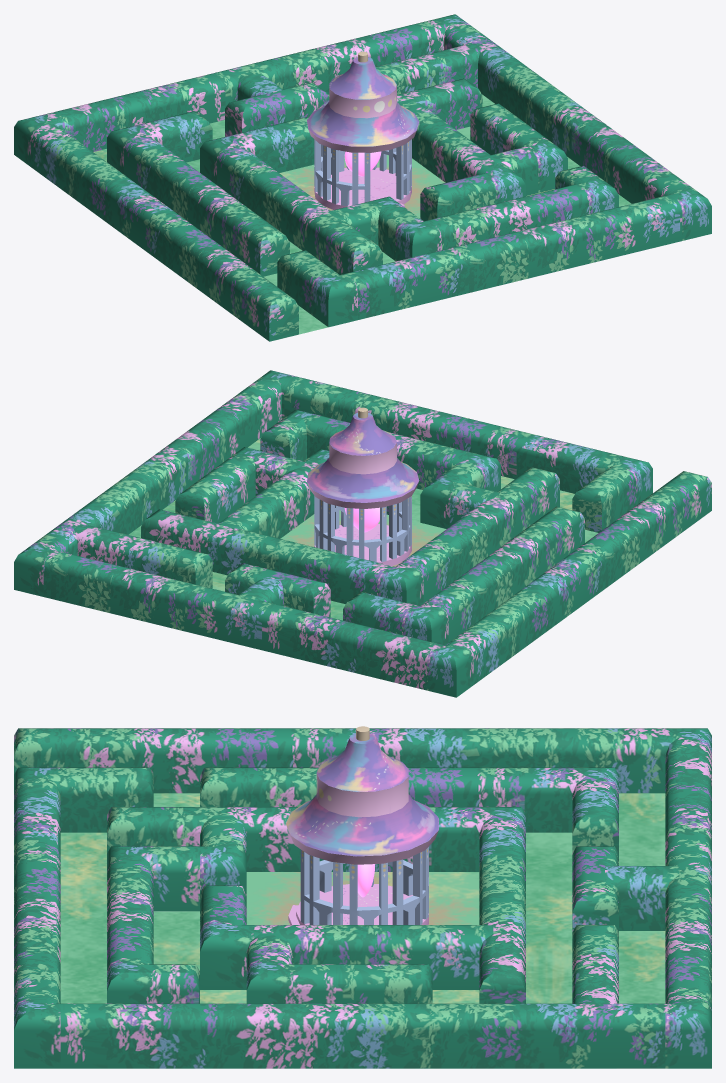
The model's file is Labirinto_coracao.glb.
3 renders of one model, top to bottom at view 1: azimuth 30°, elevation 25°; view 2: azimuth 150°, elevation 25°; view 3: azimuth 270°, elevation 25°, orthographic. The views are drawn at different scales.
Visible parts, largest first — view 1: Maze, Gazebo, Floor; view 2: Maze, Gazebo, Floor; view 3: Maze, Floor, Gazebo.
Part boxes in pixels (box(x1,y1,x2,y2)): Maze: box(14, 14, 711, 341); Gazebo: box(307, 51, 419, 209); Floor: box(93, 94, 631, 334); Maze: box(14, 370, 711, 697); Gazebo: box(307, 407, 419, 565); Floor: box(128, 438, 598, 620); Maze: box(14, 728, 711, 1068); Floor: box(60, 793, 665, 1003); Gazebo: box(286, 726, 438, 924).
Bounding box in the file's own units: 15 × 4.56 × 15.
Materials: 1 (1 with a texture image).
